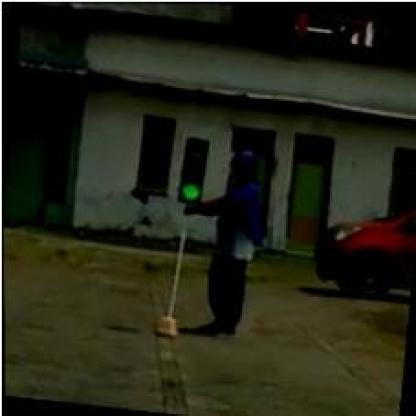green: (174, 134, 207, 202)
